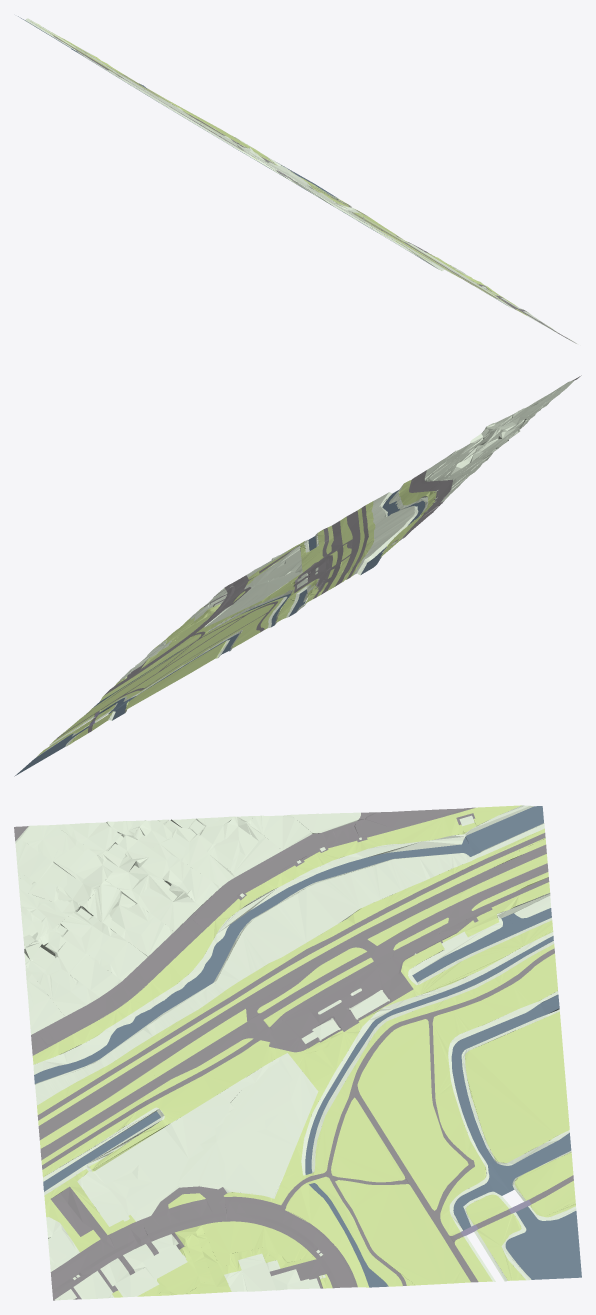
3 renders of one model, top to bottom at view 1: azimuth 30°, elevation 25°; view 2: azimuth 150°, elevation 25°; view 3: azimuth 270°, elevation 25°, orthographic. The views are drawn at different scales.
Bounding box in the file's own units: 219 × 157 × 267.
